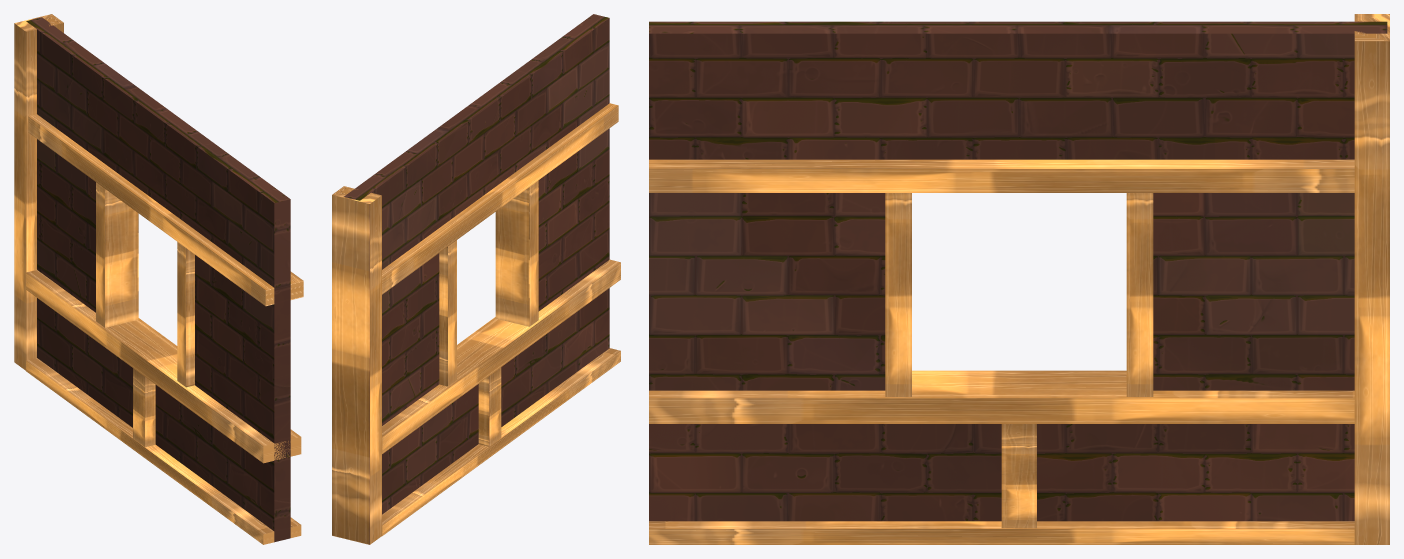
Rendered from SM_Window_Wall_02.fbx.
The picture shows the model from 3 angles, left to right: view 1: azimuth 30°, elevation 25°; view 2: azimuth 150°, elevation 25°; view 3: azimuth 270°, elevation 25°; orthographic projection. The views are drawn at different scales.
Visible parts, largest first — view 1: SM_Window_Wall_02; view 2: SM_Window_Wall_02; view 3: SM_Window_Wall_02.
Boxes of the visible parts, left/top/right/bottom form: SM_Window_Wall_02: left=14, top=14, right=303, bottom=544; SM_Window_Wall_02: left=332, top=14, right=620, bottom=544; SM_Window_Wall_02: left=649, top=14, right=1389, bottom=544.
Size of the model in its own units: 37.36 by 300 by 400.
